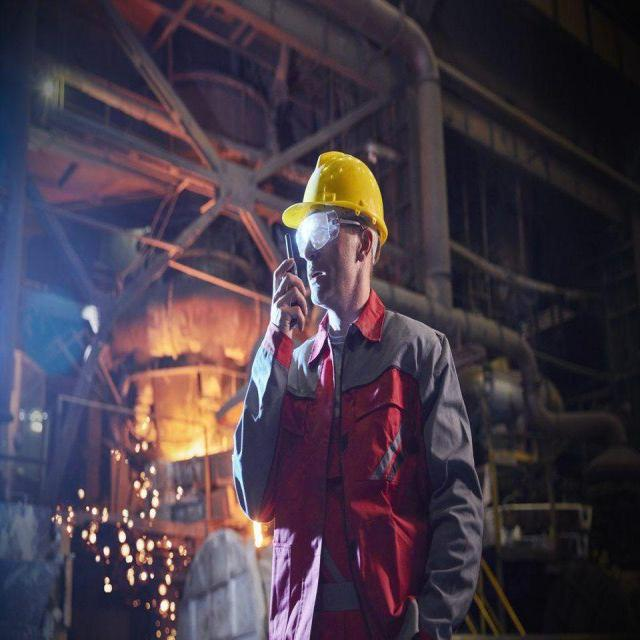Reflective-Jacket: (235, 306, 484, 634)
Safety-Helmet: (280, 144, 392, 242)
